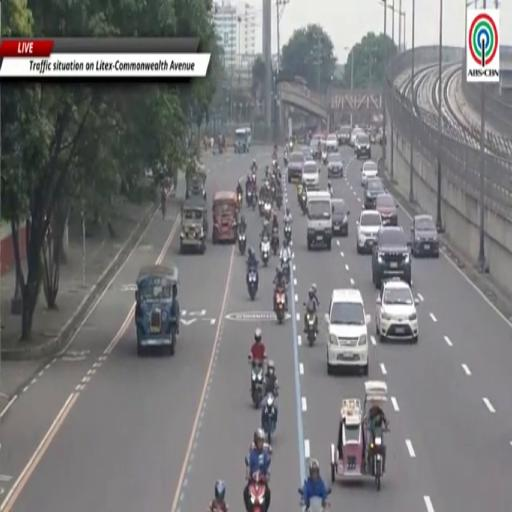car: (325, 288, 370, 375), (376, 280, 418, 342), (372, 227, 411, 289), (307, 191, 332, 250), (411, 215, 439, 258), (357, 211, 381, 253), (363, 178, 386, 209), (376, 194, 398, 226), (331, 199, 350, 236), (287, 152, 305, 184), (303, 160, 319, 189), (361, 160, 378, 186), (355, 134, 371, 158), (328, 153, 343, 178), (350, 127, 363, 148), (309, 137, 320, 158), (338, 126, 350, 145), (326, 134, 338, 153), (301, 147, 314, 161)
jeepney: (135, 265, 179, 356), (180, 197, 208, 253), (212, 191, 237, 244), (186, 164, 206, 199), (234, 128, 249, 153)
motorcycle: (369, 426, 389, 490), (249, 357, 264, 408), (262, 393, 276, 444), (249, 473, 266, 511), (298, 489, 326, 511), (373, 437, 383, 490), (274, 286, 285, 324), (306, 310, 317, 346), (247, 268, 258, 299), (281, 251, 290, 282), (261, 238, 270, 266), (271, 228, 279, 255), (239, 232, 246, 254), (300, 194, 307, 215), (284, 223, 291, 243), (264, 201, 271, 221), (246, 186, 252, 205), (251, 192, 257, 211), (321, 150, 328, 166), (276, 192, 282, 210), (237, 193, 243, 210), (258, 199, 264, 216), (271, 183, 276, 200), (284, 153, 288, 166)
tricycle: (331, 381, 387, 490)
